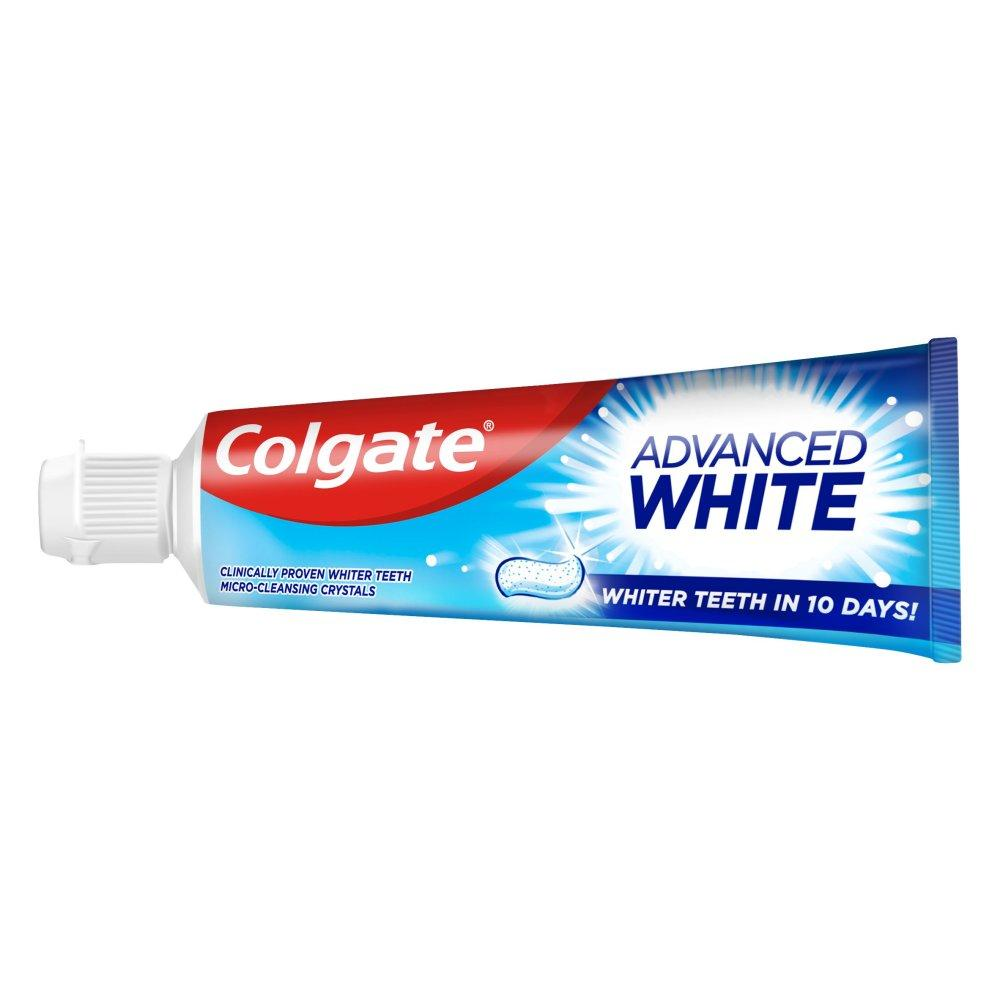toothpaste: (0, 338, 980, 697)
